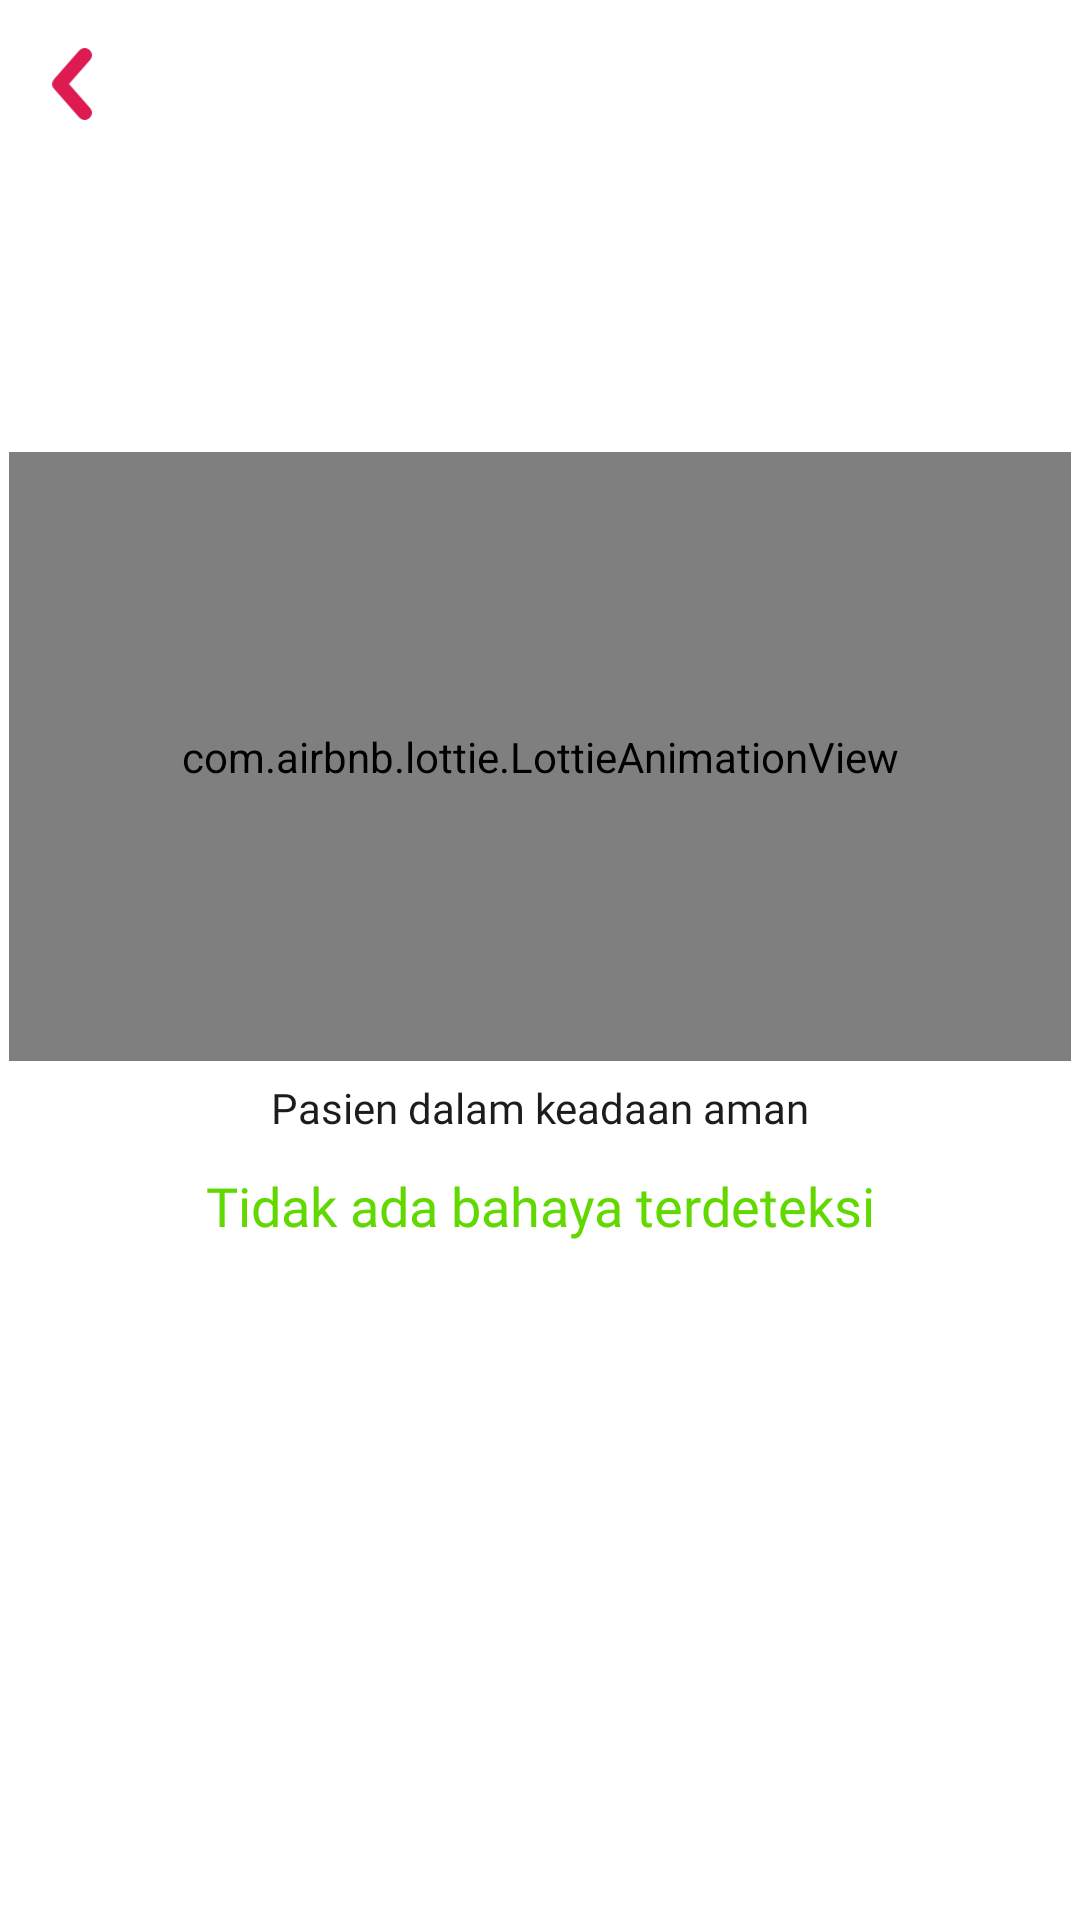

Locate icon controls on the screen. Image size 1080*1920, boxes as (x1, y1, x2, y2).
arrow: (52, 48, 92, 120)
